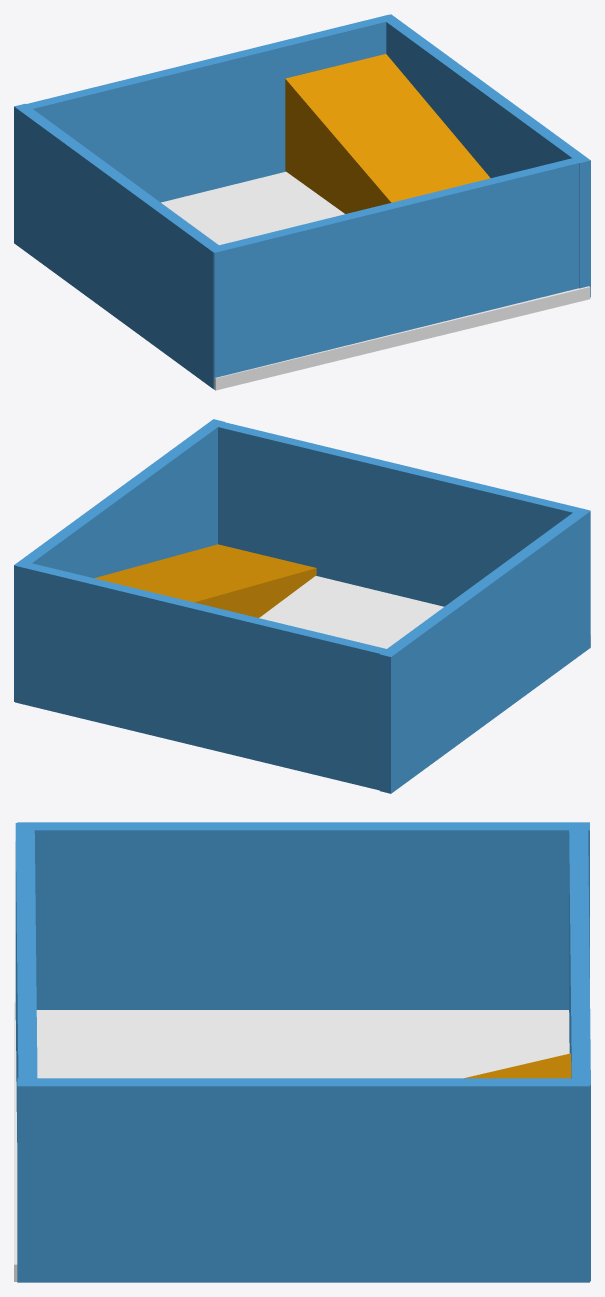
The model's file is cage.gltf.
The picture shows the model from 3 angles, top to bottom: view 1: azimuth 30°, elevation 25°; view 2: azimuth 150°, elevation 25°; view 3: azimuth 270°, elevation 25°; orthographic projection. The views are drawn at different scales.
Visible parts, largest first — view 1: Cube.001, Cube.002, Cube; view 2: Cube.001, Cube.002, Cube; view 3: Cube.001, Cube, Cube.002.
Boxes of the visible parts, left/top/right/bottom form: Cube.001: left=14, top=14, right=590, bottom=389; Cube.002: left=285, top=54, right=490, bottom=213; Cube: left=161, top=172, right=590, bottom=390; Cube.001: left=14, top=419, right=590, bottom=793; Cube.002: left=94, top=544, right=316, bottom=617; Cube: left=259, top=576, right=590, bottom=648; Cube.001: left=15, top=822, right=590, bottom=1282; Cube: left=14, top=1002, right=569, bottom=1281; Cube.002: left=464, top=1053, right=571, bottom=1078.
Bounding box in the file's own units: 19.14 × 6.66 × 17.67.
